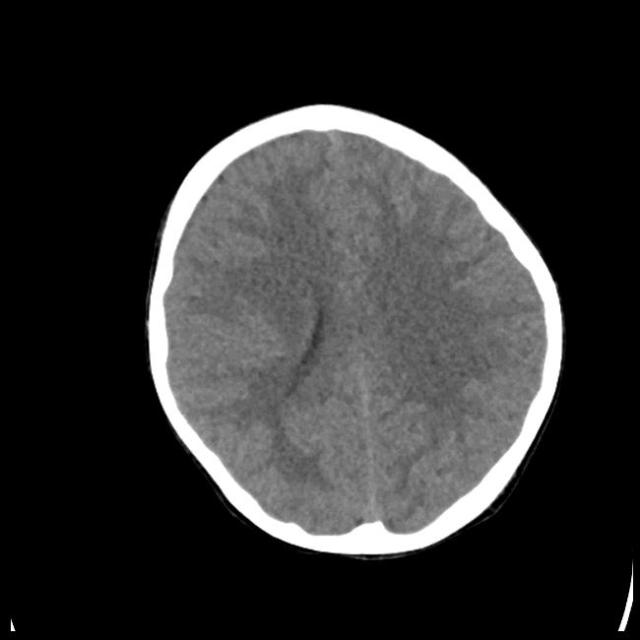lesion: (143, 102, 567, 558)
